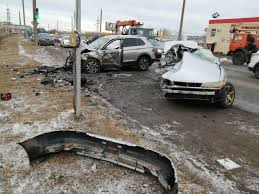car: (155, 44, 240, 110), (73, 27, 153, 75)
